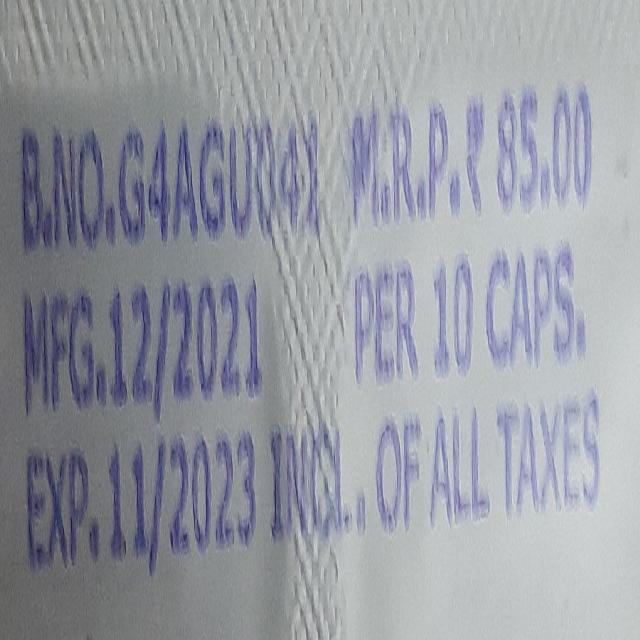sentence: (21, 183, 589, 422), (25, 390, 600, 575), (20, 78, 592, 252)
